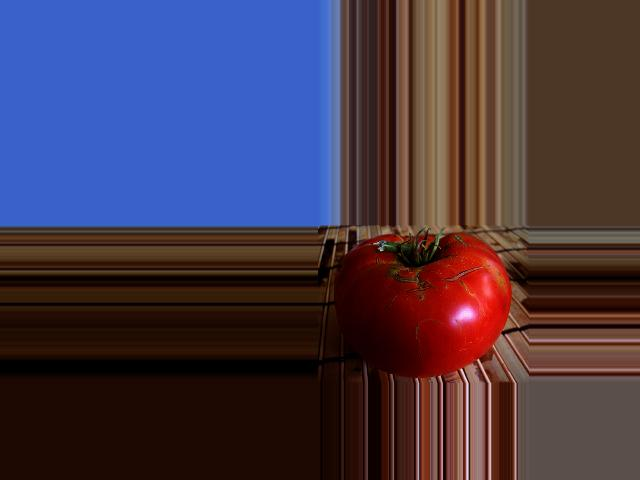tomato: (333, 233, 510, 375)
